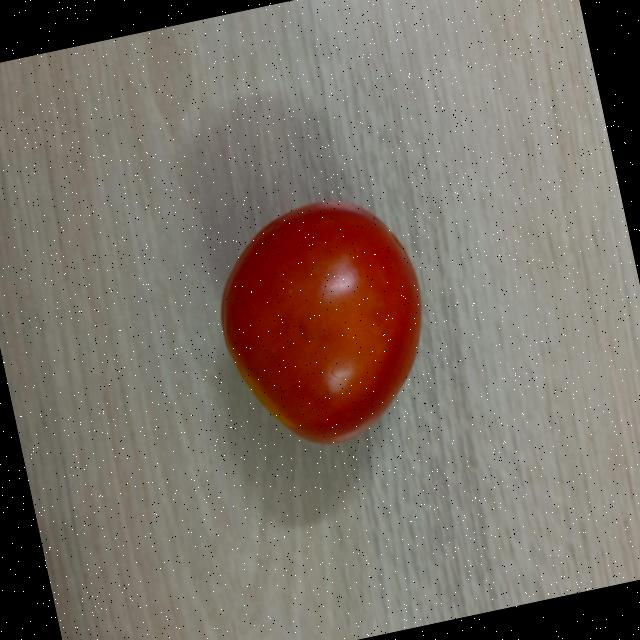Tomato: (197, 179, 452, 463)
